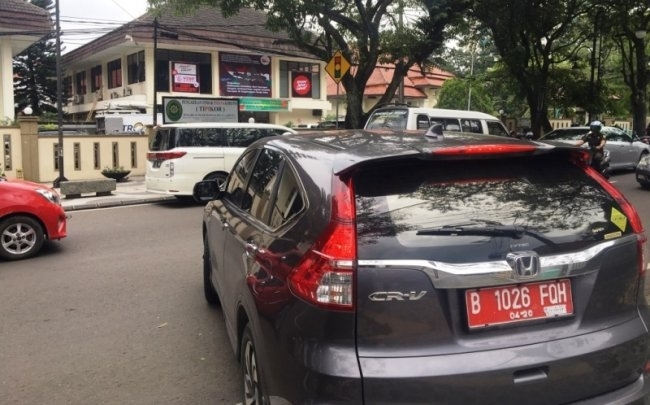plate: (465, 281, 573, 321)
